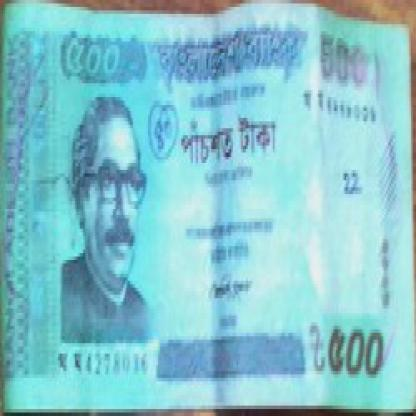500 taka: (311, 302, 398, 395), (43, 24, 140, 104), (175, 118, 286, 177)
currency: (0, 3, 415, 389)
